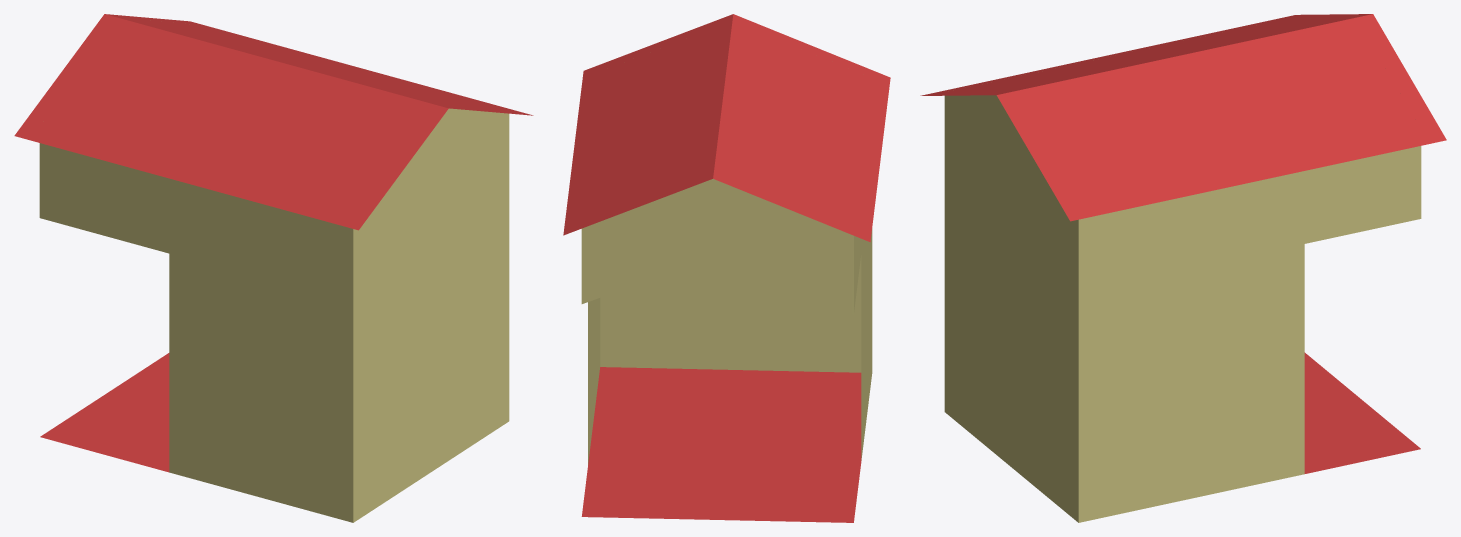
3 views of the same model, side by side, from view 1: azimuth 30°, elevation 25°; view 2: azimuth 150°, elevation 25°; view 3: azimuth 270°, elevation 25° (orthographic). The views are drawn at different scales.
Bounding box in the file's own units: 12.89 × 13.93 × 10.99.
